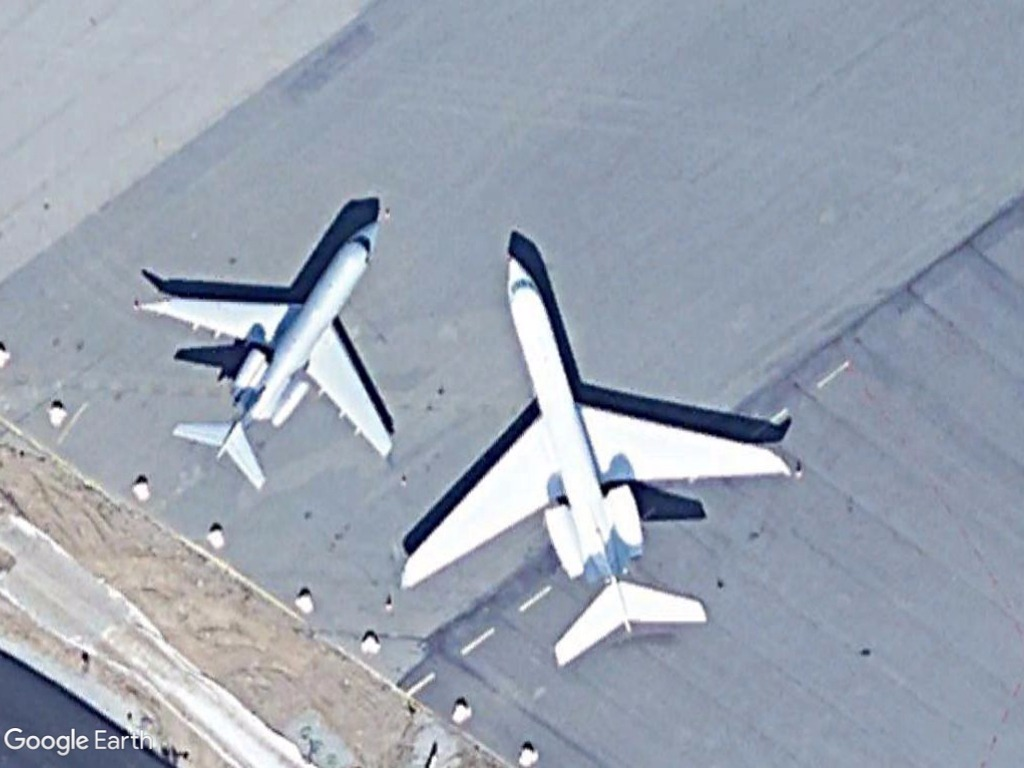chartered: (388, 247, 801, 664), (134, 216, 407, 495)
